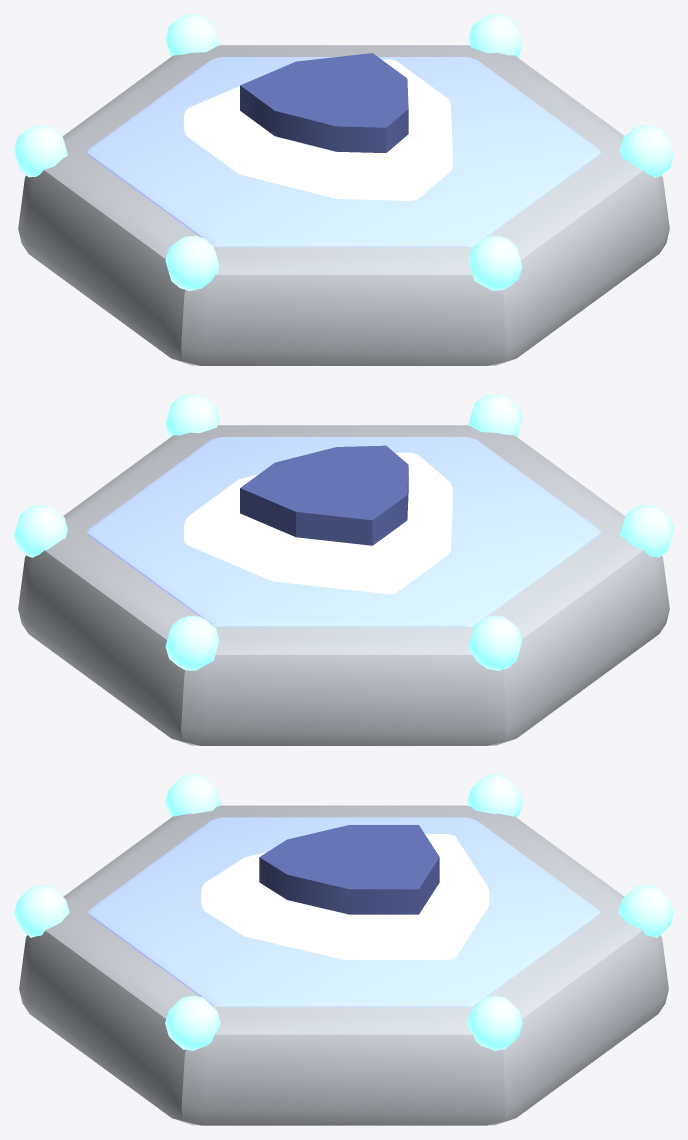
Rendered from power_shield.glb.
The picture shows the model from 3 angles, top to bottom: view 1: azimuth 30°, elevation 25°; view 2: azimuth 150°, elevation 25°; view 3: azimuth 270°, elevation 25°; orthographic projection.
Visible parts, largest first — view 1: power_shield; view 2: power_shield; view 3: power_shield.
Part boxes in pixels (left/top/right/bottom): power_shield: left=14, top=14, right=673, bottom=365; power_shield: left=14, top=394, right=673, bottom=745; power_shield: left=14, top=774, right=673, bottom=1125.
Bounding box in the file's own units: 0.5177 × 0.155 × 0.59.
